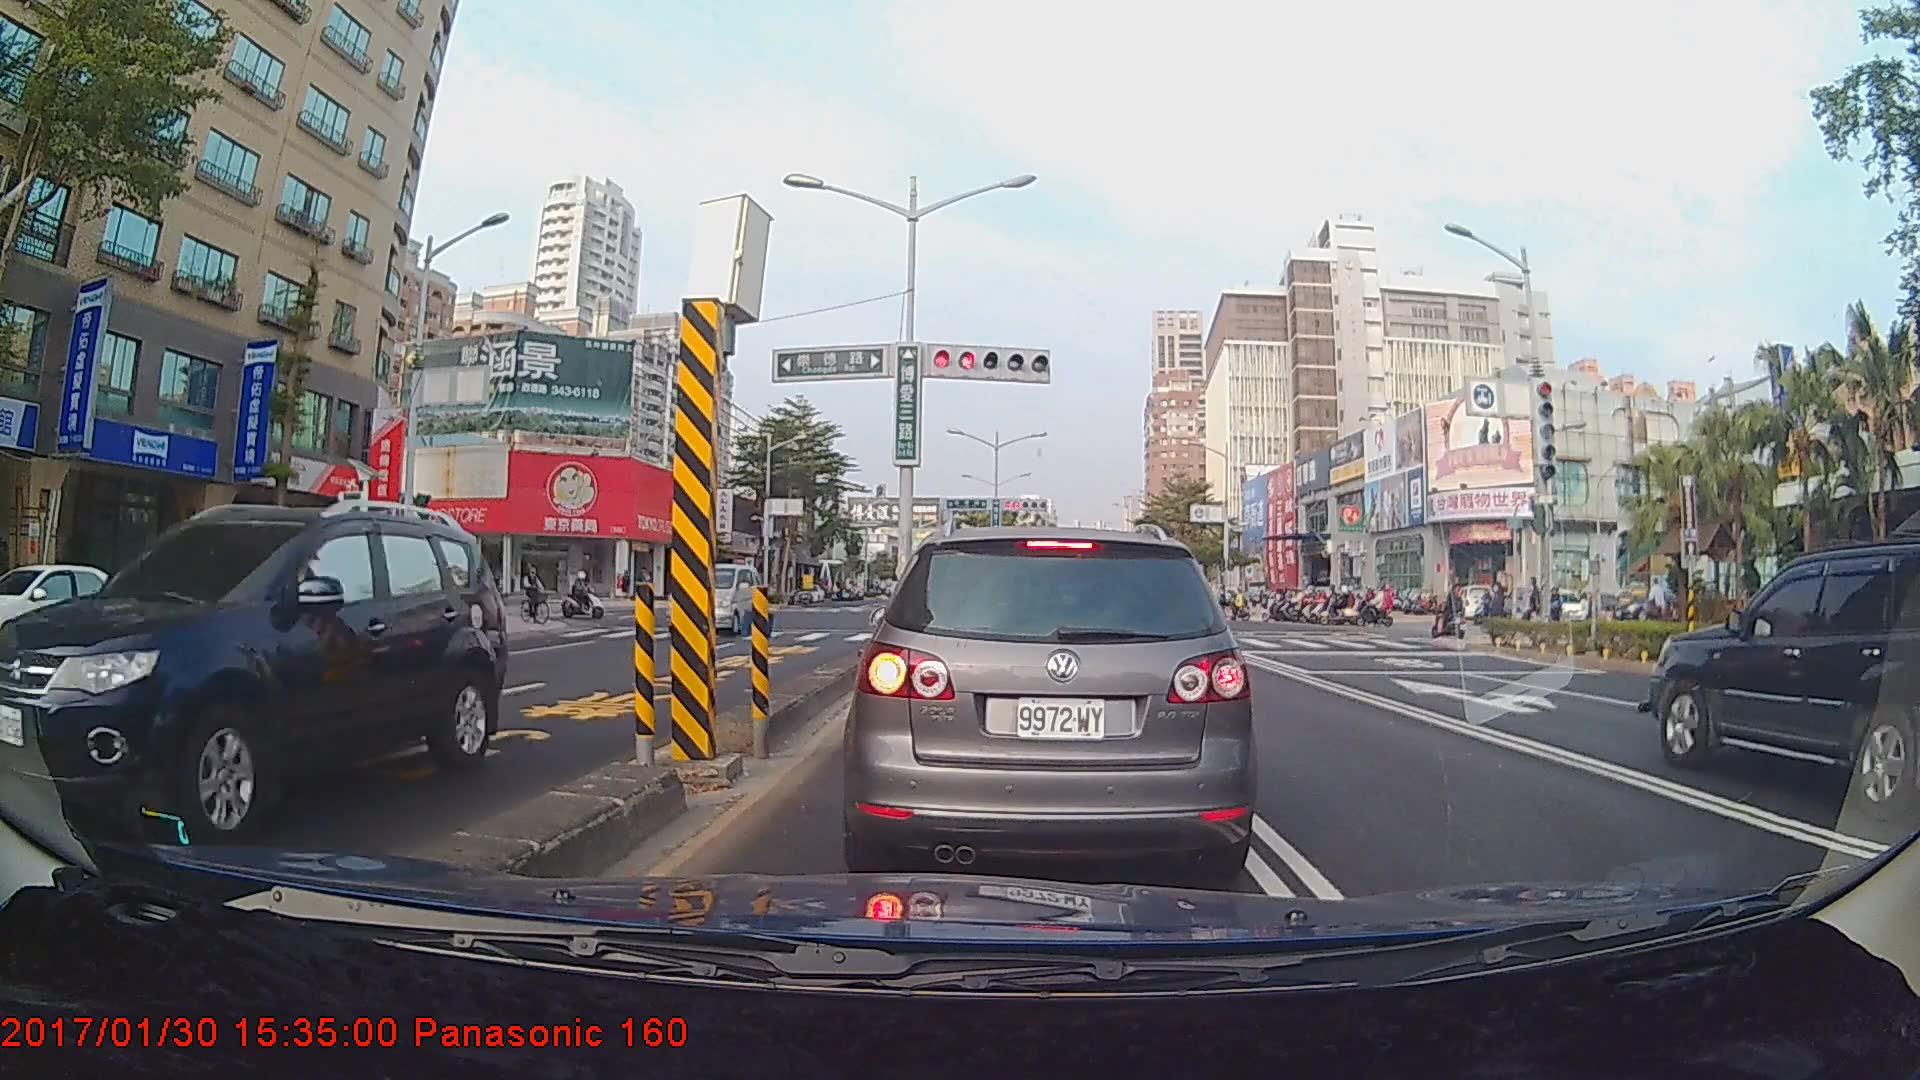pedestrian: (1648, 577, 1669, 635)
rider: (562, 566, 609, 619), (1427, 582, 1466, 637)
vehicle: (0, 503, 506, 844), (837, 516, 1261, 881), (1647, 534, 1920, 810), (0, 561, 159, 674), (663, 561, 762, 636)
